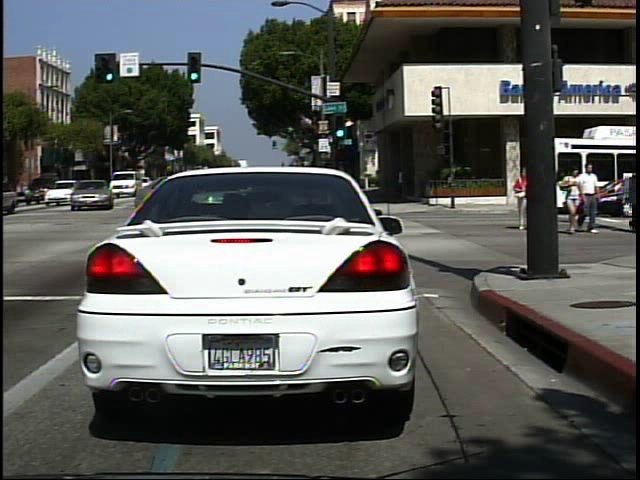person: (577, 163, 604, 237), (561, 161, 583, 239), (509, 165, 531, 232), (619, 163, 639, 234)
